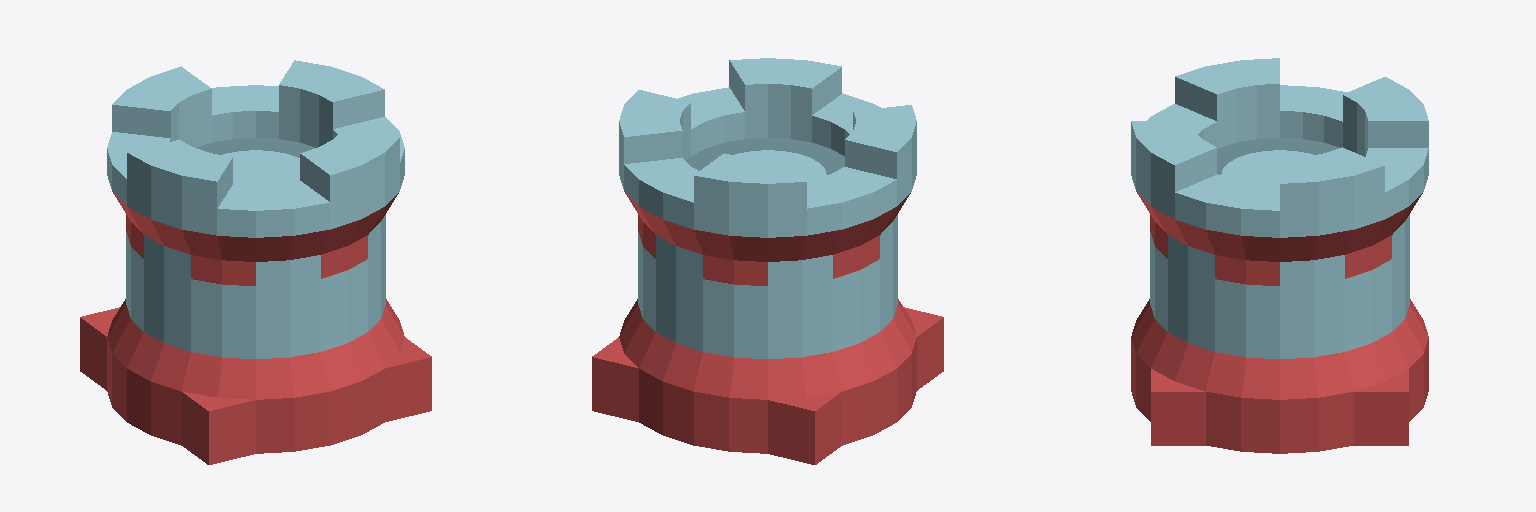
Rendered from tile_tower_blaster.obj.
3 views of the same model, side by side, from view 1: azimuth 30°, elevation 25°; view 2: azimuth 150°, elevation 25°; view 3: azimuth 270°, elevation 25° (orthographic).
Parts seen in each view (by area): view 1: towerRound_sampleE; view 2: towerRound_sampleE; view 3: towerRound_sampleE.
Boxes of the visible parts, <box> form: towerRound_sampleE: <box>80,60,431,464</box>; towerRound_sampleE: <box>592,58,943,464</box>; towerRound_sampleE: <box>1131,58,1428,453</box>.
Size of the model in its own units: 1 by 1 by 1.